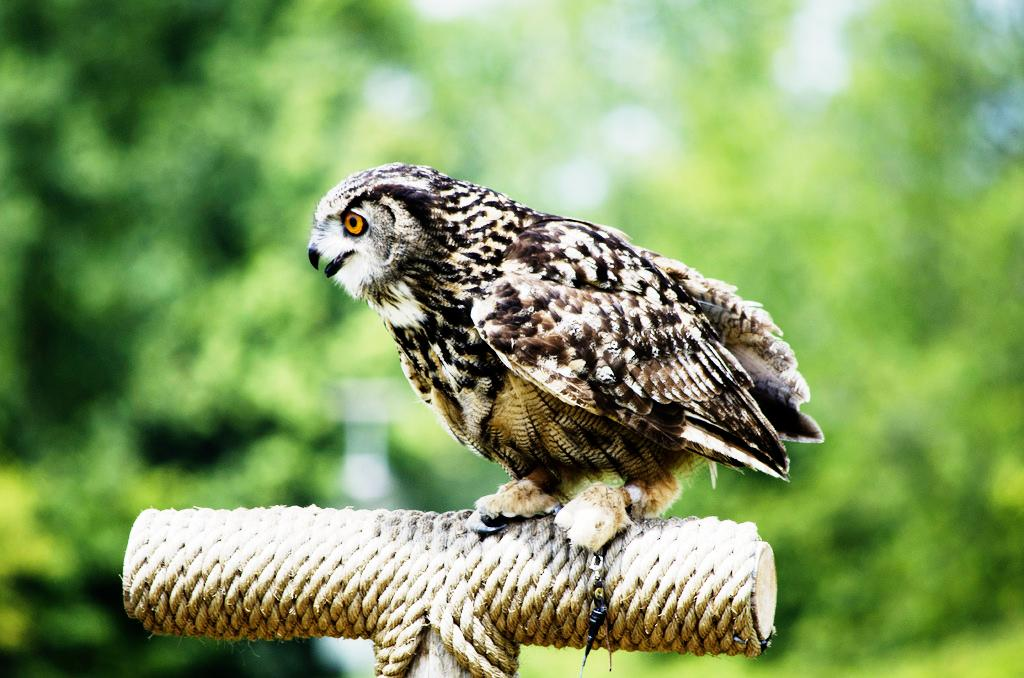Owl: (304, 161, 826, 556)
